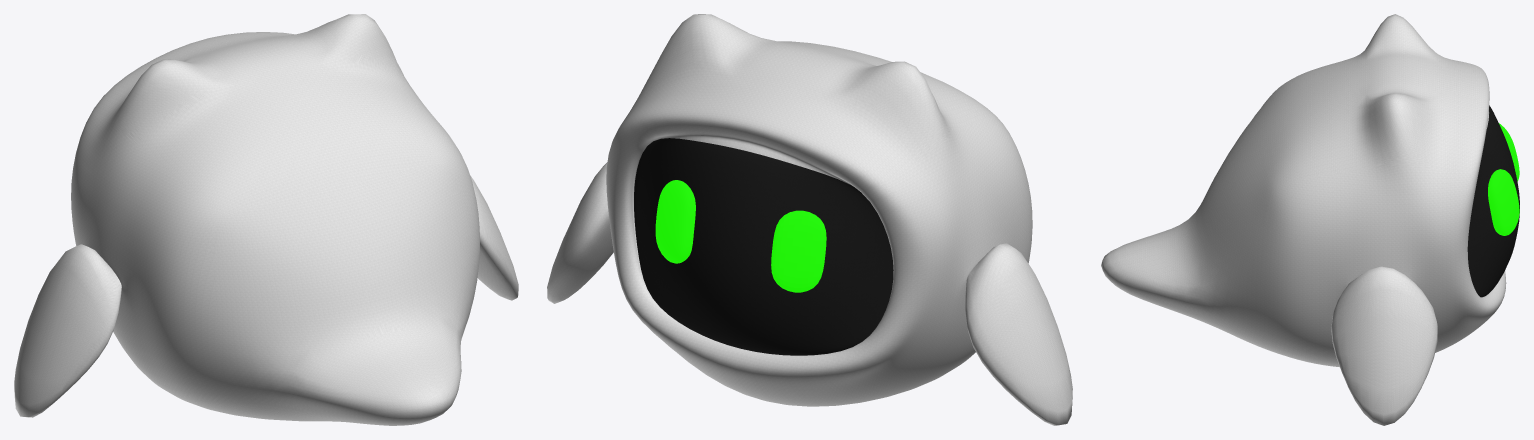
The model's file is robotcito.glb.
3 renders of one model, left to right at view 1: azimuth 30°, elevation 25°; view 2: azimuth 150°, elevation 25°; view 3: azimuth 270°, elevation 25°, orthographic. The views are drawn at different scales.
Parts seen in each view (by area): view 1: Cube; view 2: Cube, oJITO 1, oJITO 2; view 3: Cube, oJITO 2.
Boxes of the visible parts, bbox=[...] form: Cube: bbox=[14, 14, 518, 425]; Cube: bbox=[547, 14, 1072, 425]; oJITO 1: bbox=[771, 210, 826, 292]; oJITO 2: bbox=[655, 180, 695, 263]; Cube: bbox=[1101, 14, 1519, 425]; oJITO 2: bbox=[1488, 169, 1519, 235].
Bounding box in the file's own units: 115 × 76.14 × 99.03.
3 materials, 2 textured.
